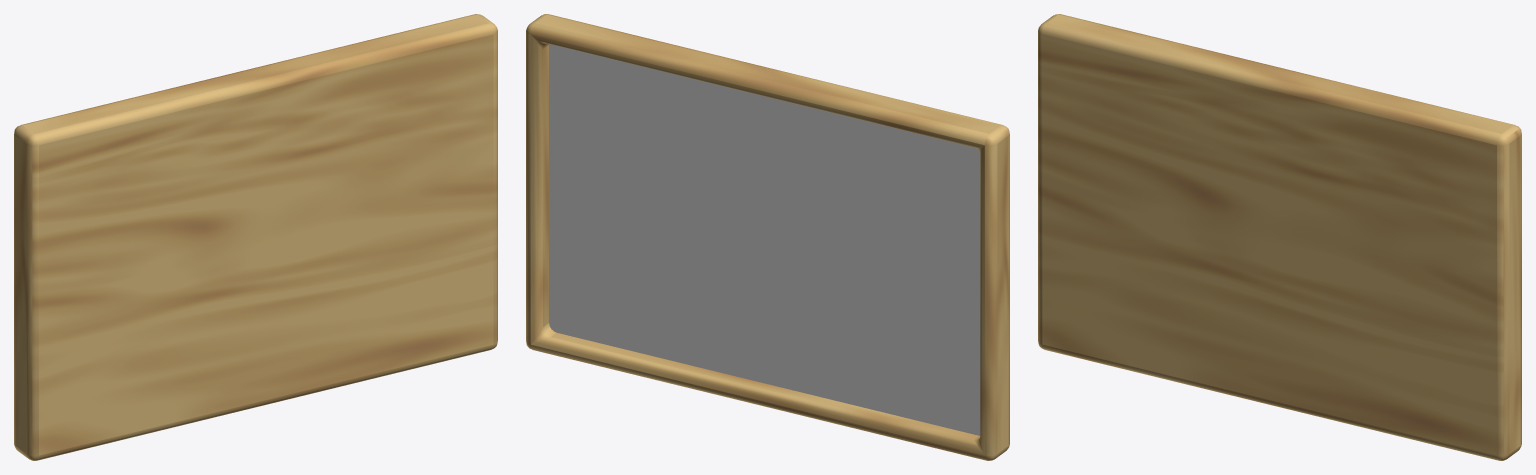
The model's file is BULLETIN BOARD.fbx.
The picture shows the model from 3 angles, left to right: view 1: azimuth 30°, elevation 25°; view 2: azimuth 150°, elevation 25°; view 3: azimuth 330°, elevation 25°; orthographic projection.
Visible parts, largest first — view 1: Cube.007; view 2: Cube.001, Cube.007; view 3: Cube.007.
Boxes of the visible parts, <box> form: Cube.007: <box>14,14,497,460</box>; Cube.001: <box>549,44,980,435</box>; Cube.007: <box>526,14,1009,460</box>; Cube.007: <box>1038,14,1521,460</box>.
Size of the model in its own units: 301 by 200 by 22.8.
